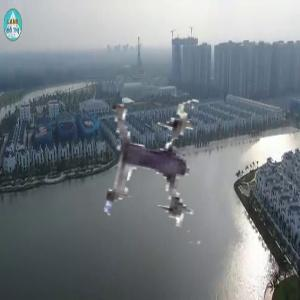drone: (81, 83, 240, 242)
